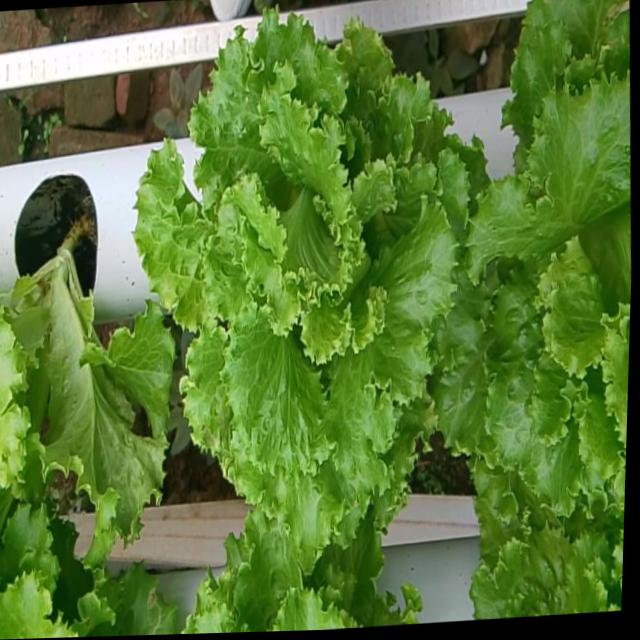Mature: (130, 14, 465, 550), (432, 67, 630, 513)
